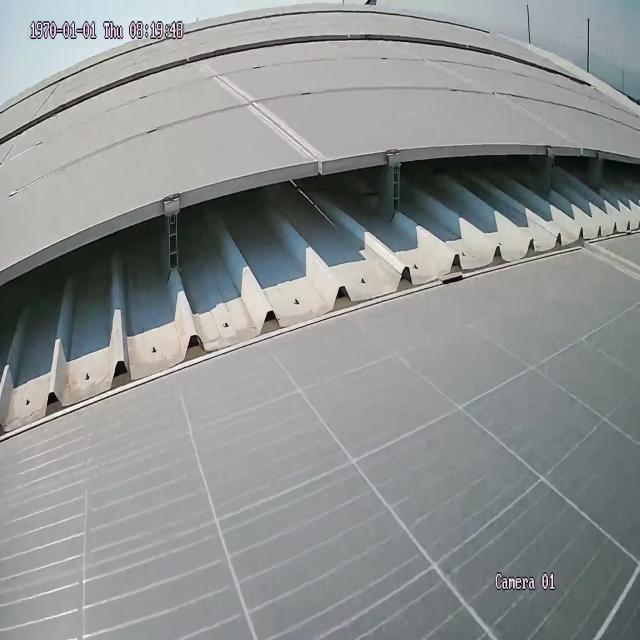interior panel: (191, 68, 323, 155)
outher panel: (0, 156, 640, 450)
